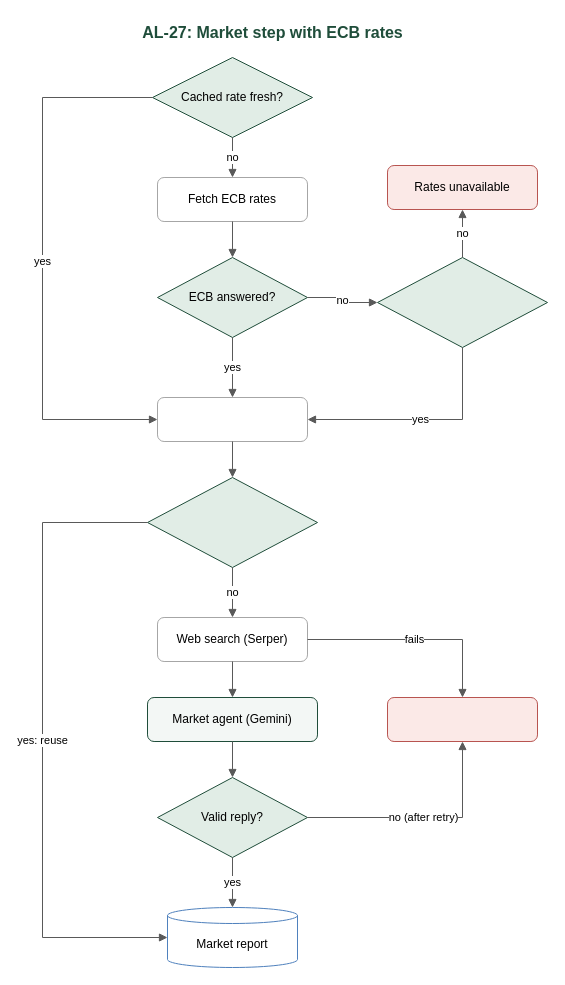
Some shapes in this 565 by 985 pixel diagram are drawn without their labels. The shapes that lost their labels are listed below. From the top down, each one's centre as x and y in pixels, then its label:
At [462,302]: "Cache under 3 months?".
At [232,419]: "Use official rates".
At [232,522]: "Report made today?".
At [462,719]: "Step fails".
